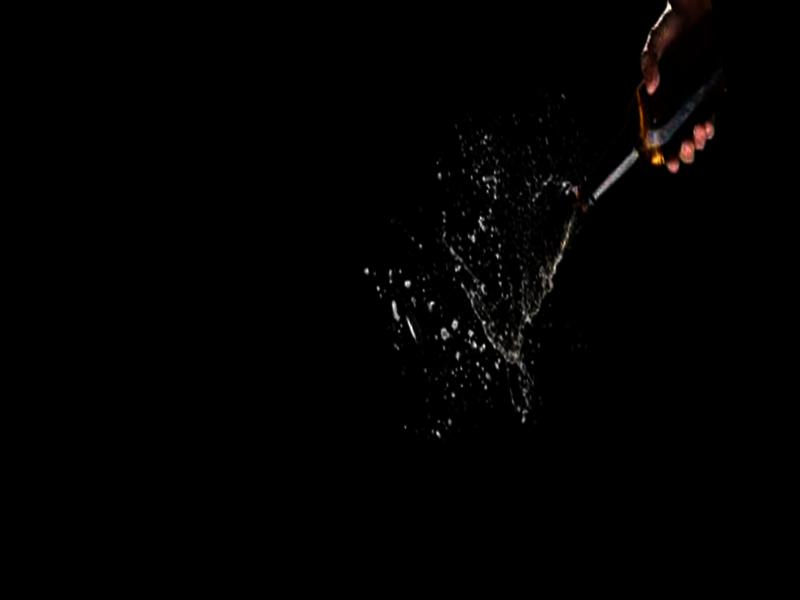Beer: (549, 5, 742, 218)
